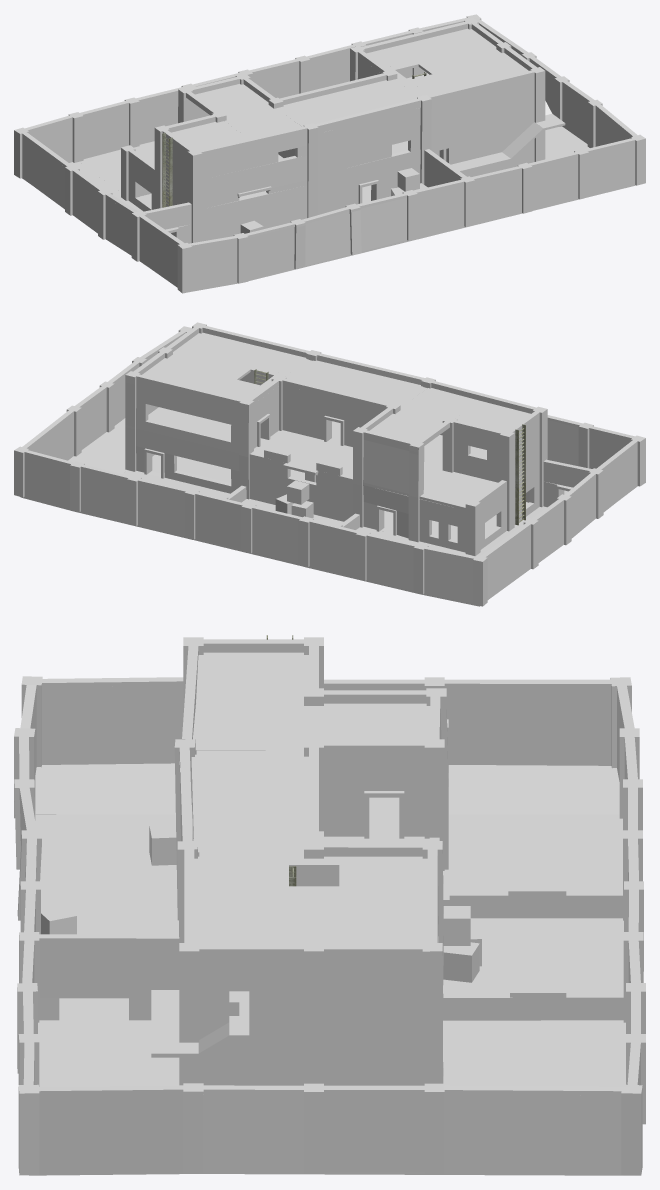
File: SM_Stroke_03_Block_00.fbx
3 views of the same model, one above another, from view 1: azimuth 30°, elevation 25°; view 2: azimuth 150°, elevation 25°; view 3: azimuth 270°, elevation 25° (orthographic). The views are drawn at different scales.
Parts seen in each view (by area): view 1: SM_Stroke_03_Block_00, SM_Stroke_03_Block_00.002, SM_Stroke_03_Block_00.003, SM_Stroke_02_ladders; view 2: SM_Stroke_03_Block_00, SM_Stroke_03_Block_00.002, SM_Stroke_03_Block_00.003, SM_Stroke_02_ladders; view 3: SM_Stroke_03_Block_00.002, SM_Stroke_03_Block_00, SM_Stroke_03_Block_00.003.
Boxes of the visible parts, left/top/right/bottom form: SM_Stroke_03_Block_00: left=121, top=18, right=545, bottom=242; SM_Stroke_03_Block_00.002: left=14, top=14, right=645, bottom=293; SM_Stroke_03_Block_00.003: left=22, top=126, right=635, bottom=291; SM_Stroke_02_ladders: left=162, top=72, right=426, bottom=207; SM_Stroke_03_Block_00: left=125, top=322, right=547, bottom=555; SM_Stroke_03_Block_00.002: left=14, top=326, right=645, bottom=606; SM_Stroke_03_Block_00.003: left=20, top=418, right=637, bottom=606; SM_Stroke_02_ladders: left=254, top=369, right=525, bottom=525; SM_Stroke_03_Block_00.002: left=14, top=676, right=645, bottom=1175; SM_Stroke_03_Block_00: left=174, top=637, right=449, bottom=1085; SM_Stroke_03_Block_00.003: left=29, top=763, right=634, bottom=1175.
Size of the model in its own units: 6553 by 1600 by 4190.
